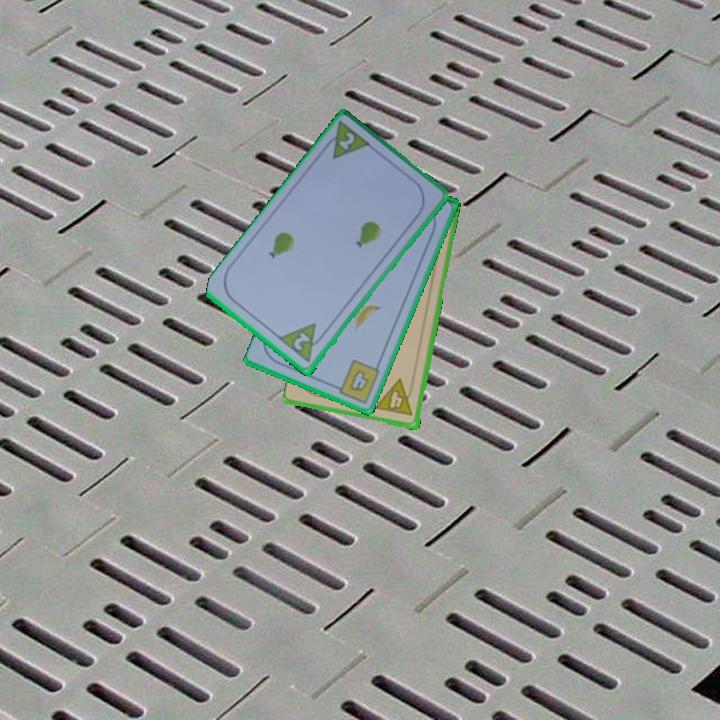2p: (290, 329, 313, 354), (335, 129, 358, 154)
4b: (330, 356, 383, 406)
4p: (373, 377, 417, 419)
